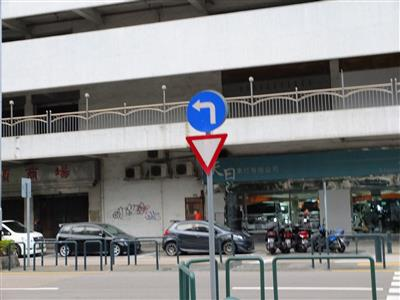leftTurnOnly: (184, 89, 227, 132)
yield: (181, 130, 231, 176)
